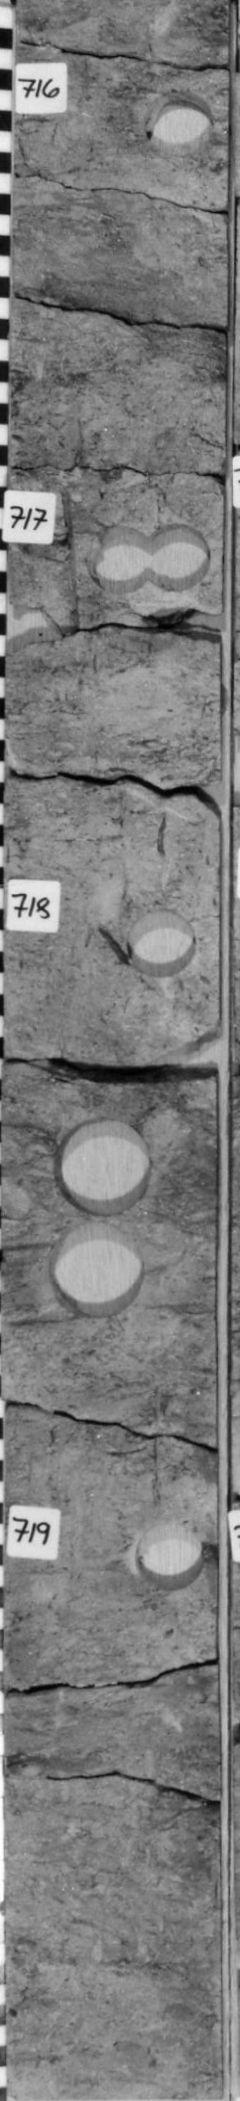hplug: (117, 899, 204, 982), (138, 82, 225, 159), (125, 1519, 211, 1597), (152, 521, 215, 598), (88, 525, 152, 598)
scal: (50, 1113, 154, 1221), (46, 1223, 154, 1323)
vplug: (9, 488, 84, 649)
